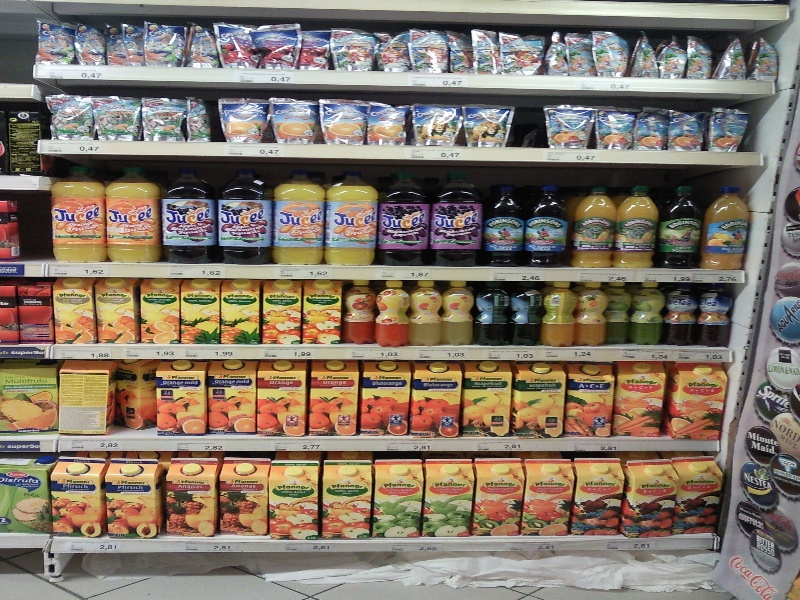juice: (219, 455, 277, 541), (103, 458, 163, 537), (104, 182, 162, 263), (164, 182, 221, 263), (321, 458, 377, 540), (270, 184, 325, 267), (269, 459, 326, 539), (51, 181, 106, 262), (217, 183, 272, 264), (372, 458, 425, 542), (48, 461, 105, 539), (523, 459, 577, 540), (572, 456, 625, 538), (325, 186, 378, 268), (164, 463, 221, 539), (257, 361, 312, 439), (624, 459, 676, 539), (360, 361, 414, 437), (311, 361, 362, 437), (617, 365, 670, 438), (425, 460, 475, 536), (209, 361, 259, 437), (93, 272, 142, 347), (474, 462, 525, 534), (568, 366, 616, 442), (515, 364, 566, 435), (157, 363, 207, 435), (413, 367, 464, 437), (466, 361, 513, 435), (139, 277, 185, 350), (51, 278, 100, 343), (180, 277, 224, 343), (301, 280, 343, 346), (262, 280, 304, 345), (222, 280, 263, 345)
